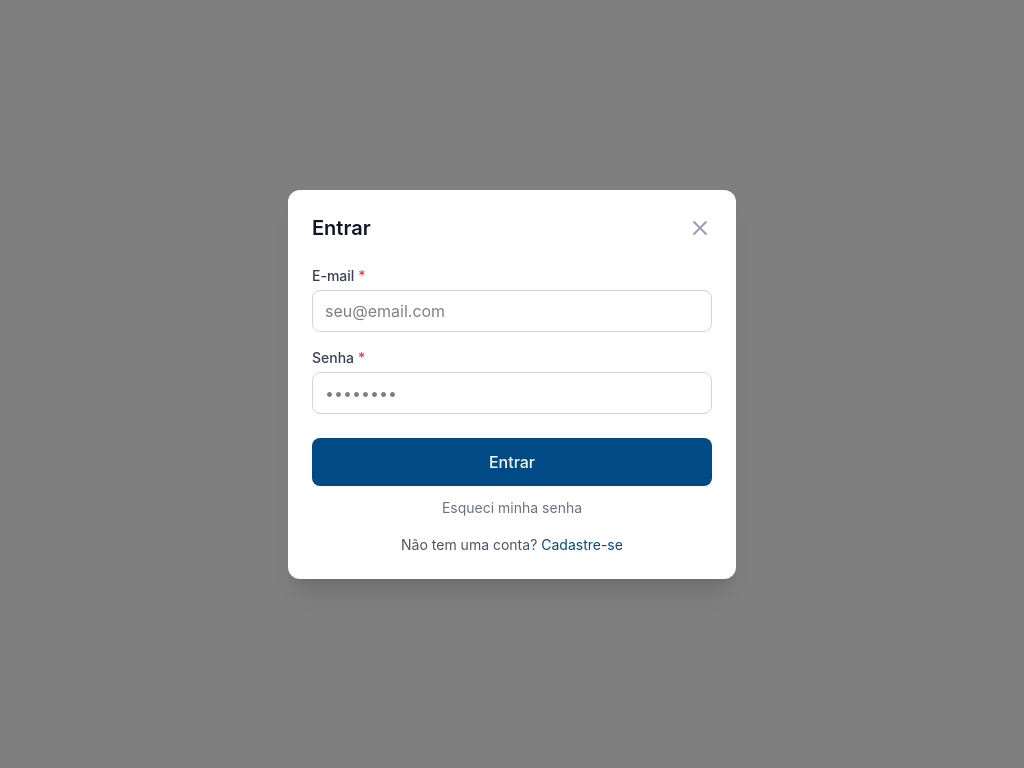
it: AuthModal › switches back to login mode
Click the button "Cadastre-se": (582, 544) x1=541 y1=534 x2=623 y2=554
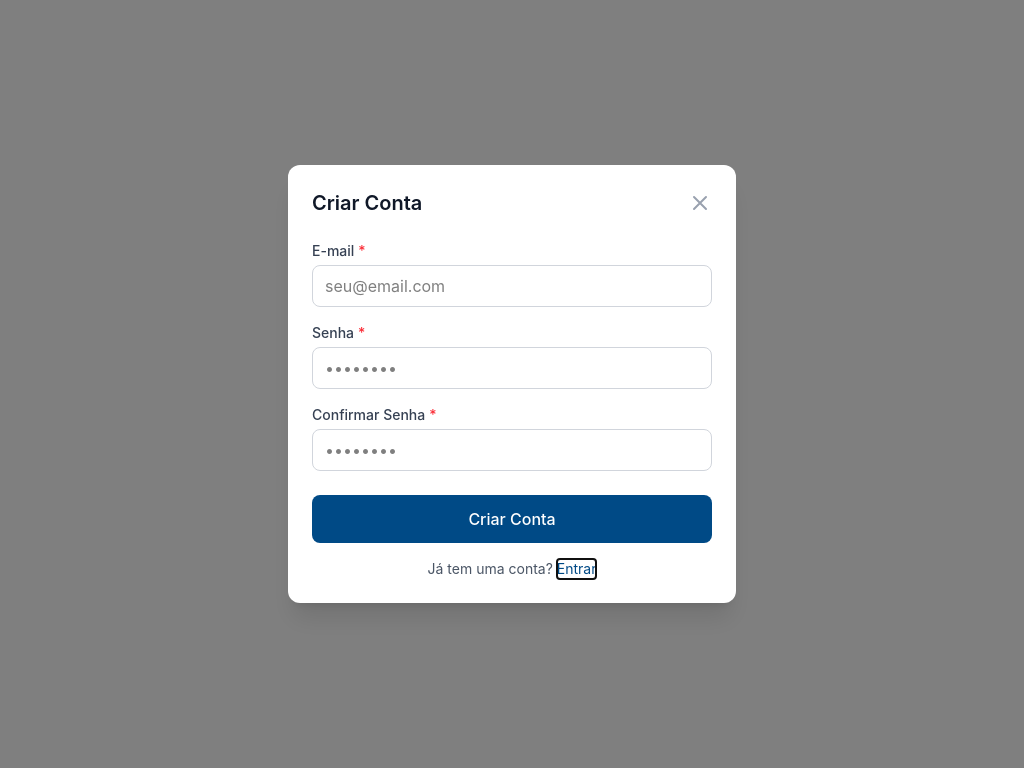
Click the button "Entrar": (577, 569) x1=557 y1=559 x2=596 y2=579
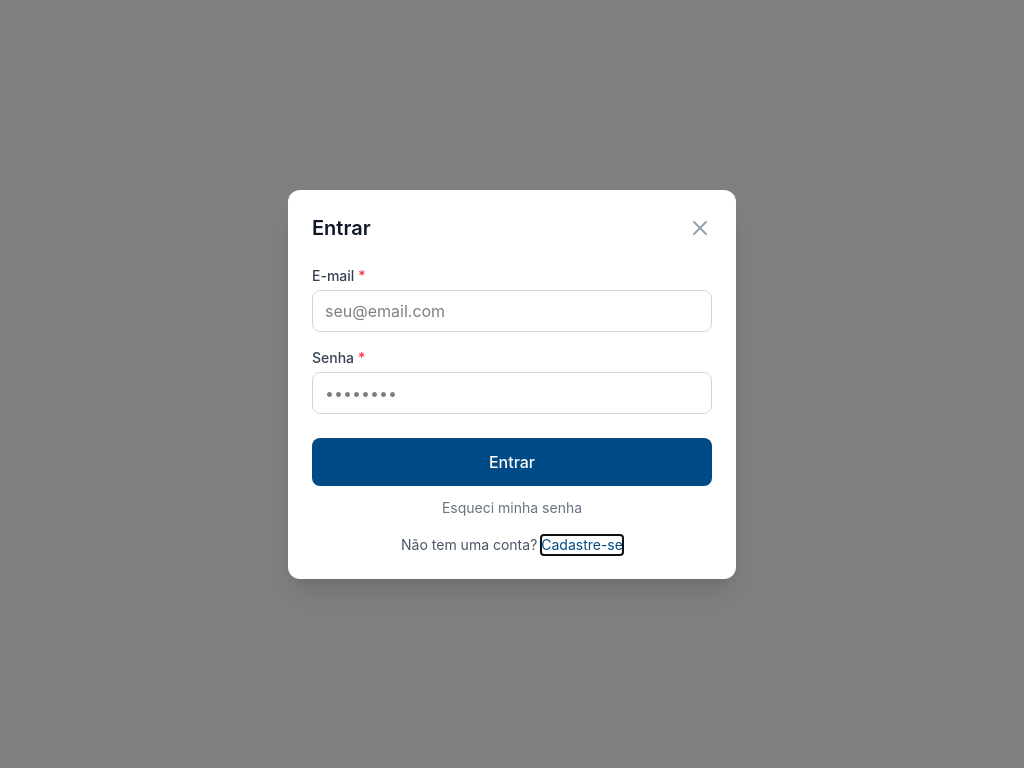
Now the text "Confirmar Senha" is gone
